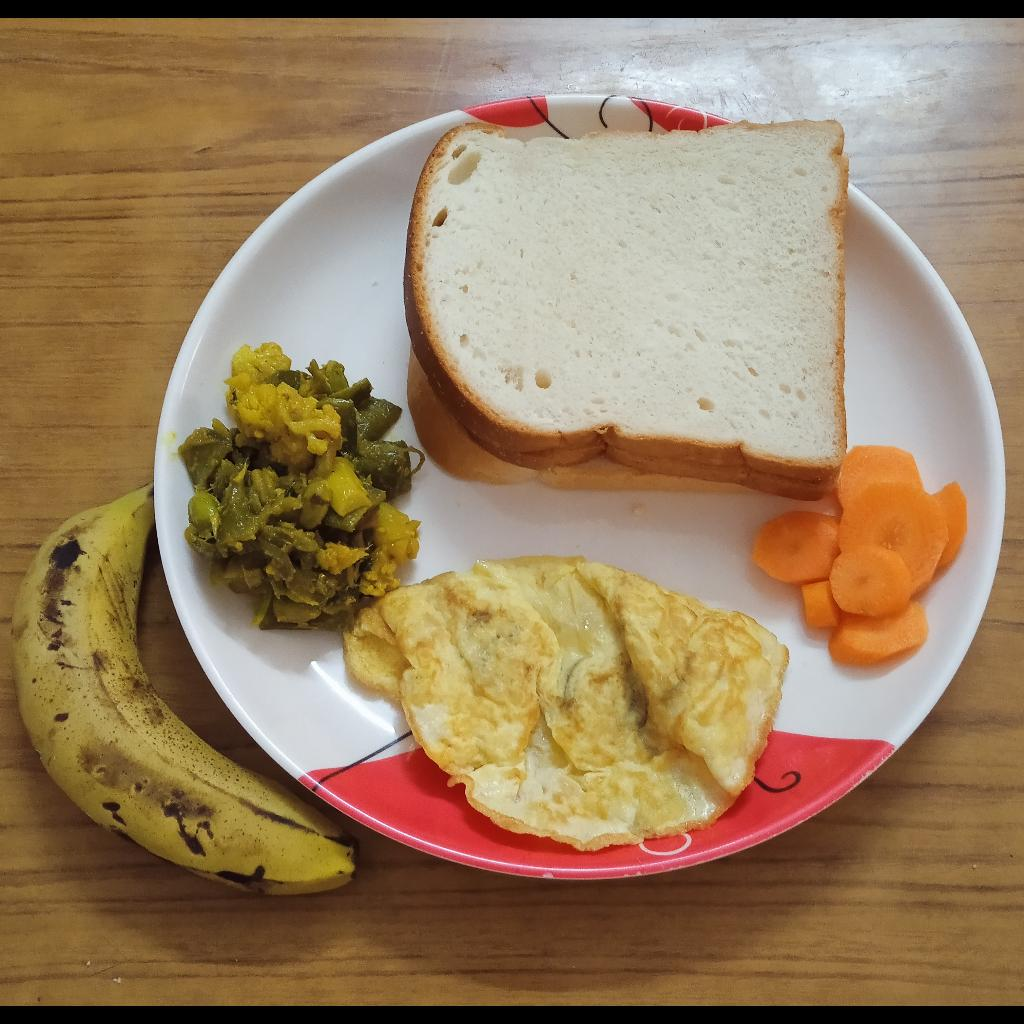banana: (8, 482, 356, 900)
bread: (402, 120, 849, 501)
carrot: (750, 445, 968, 671)
egg-poached: (343, 555, 789, 852)
vegetable: (175, 344, 422, 633)
